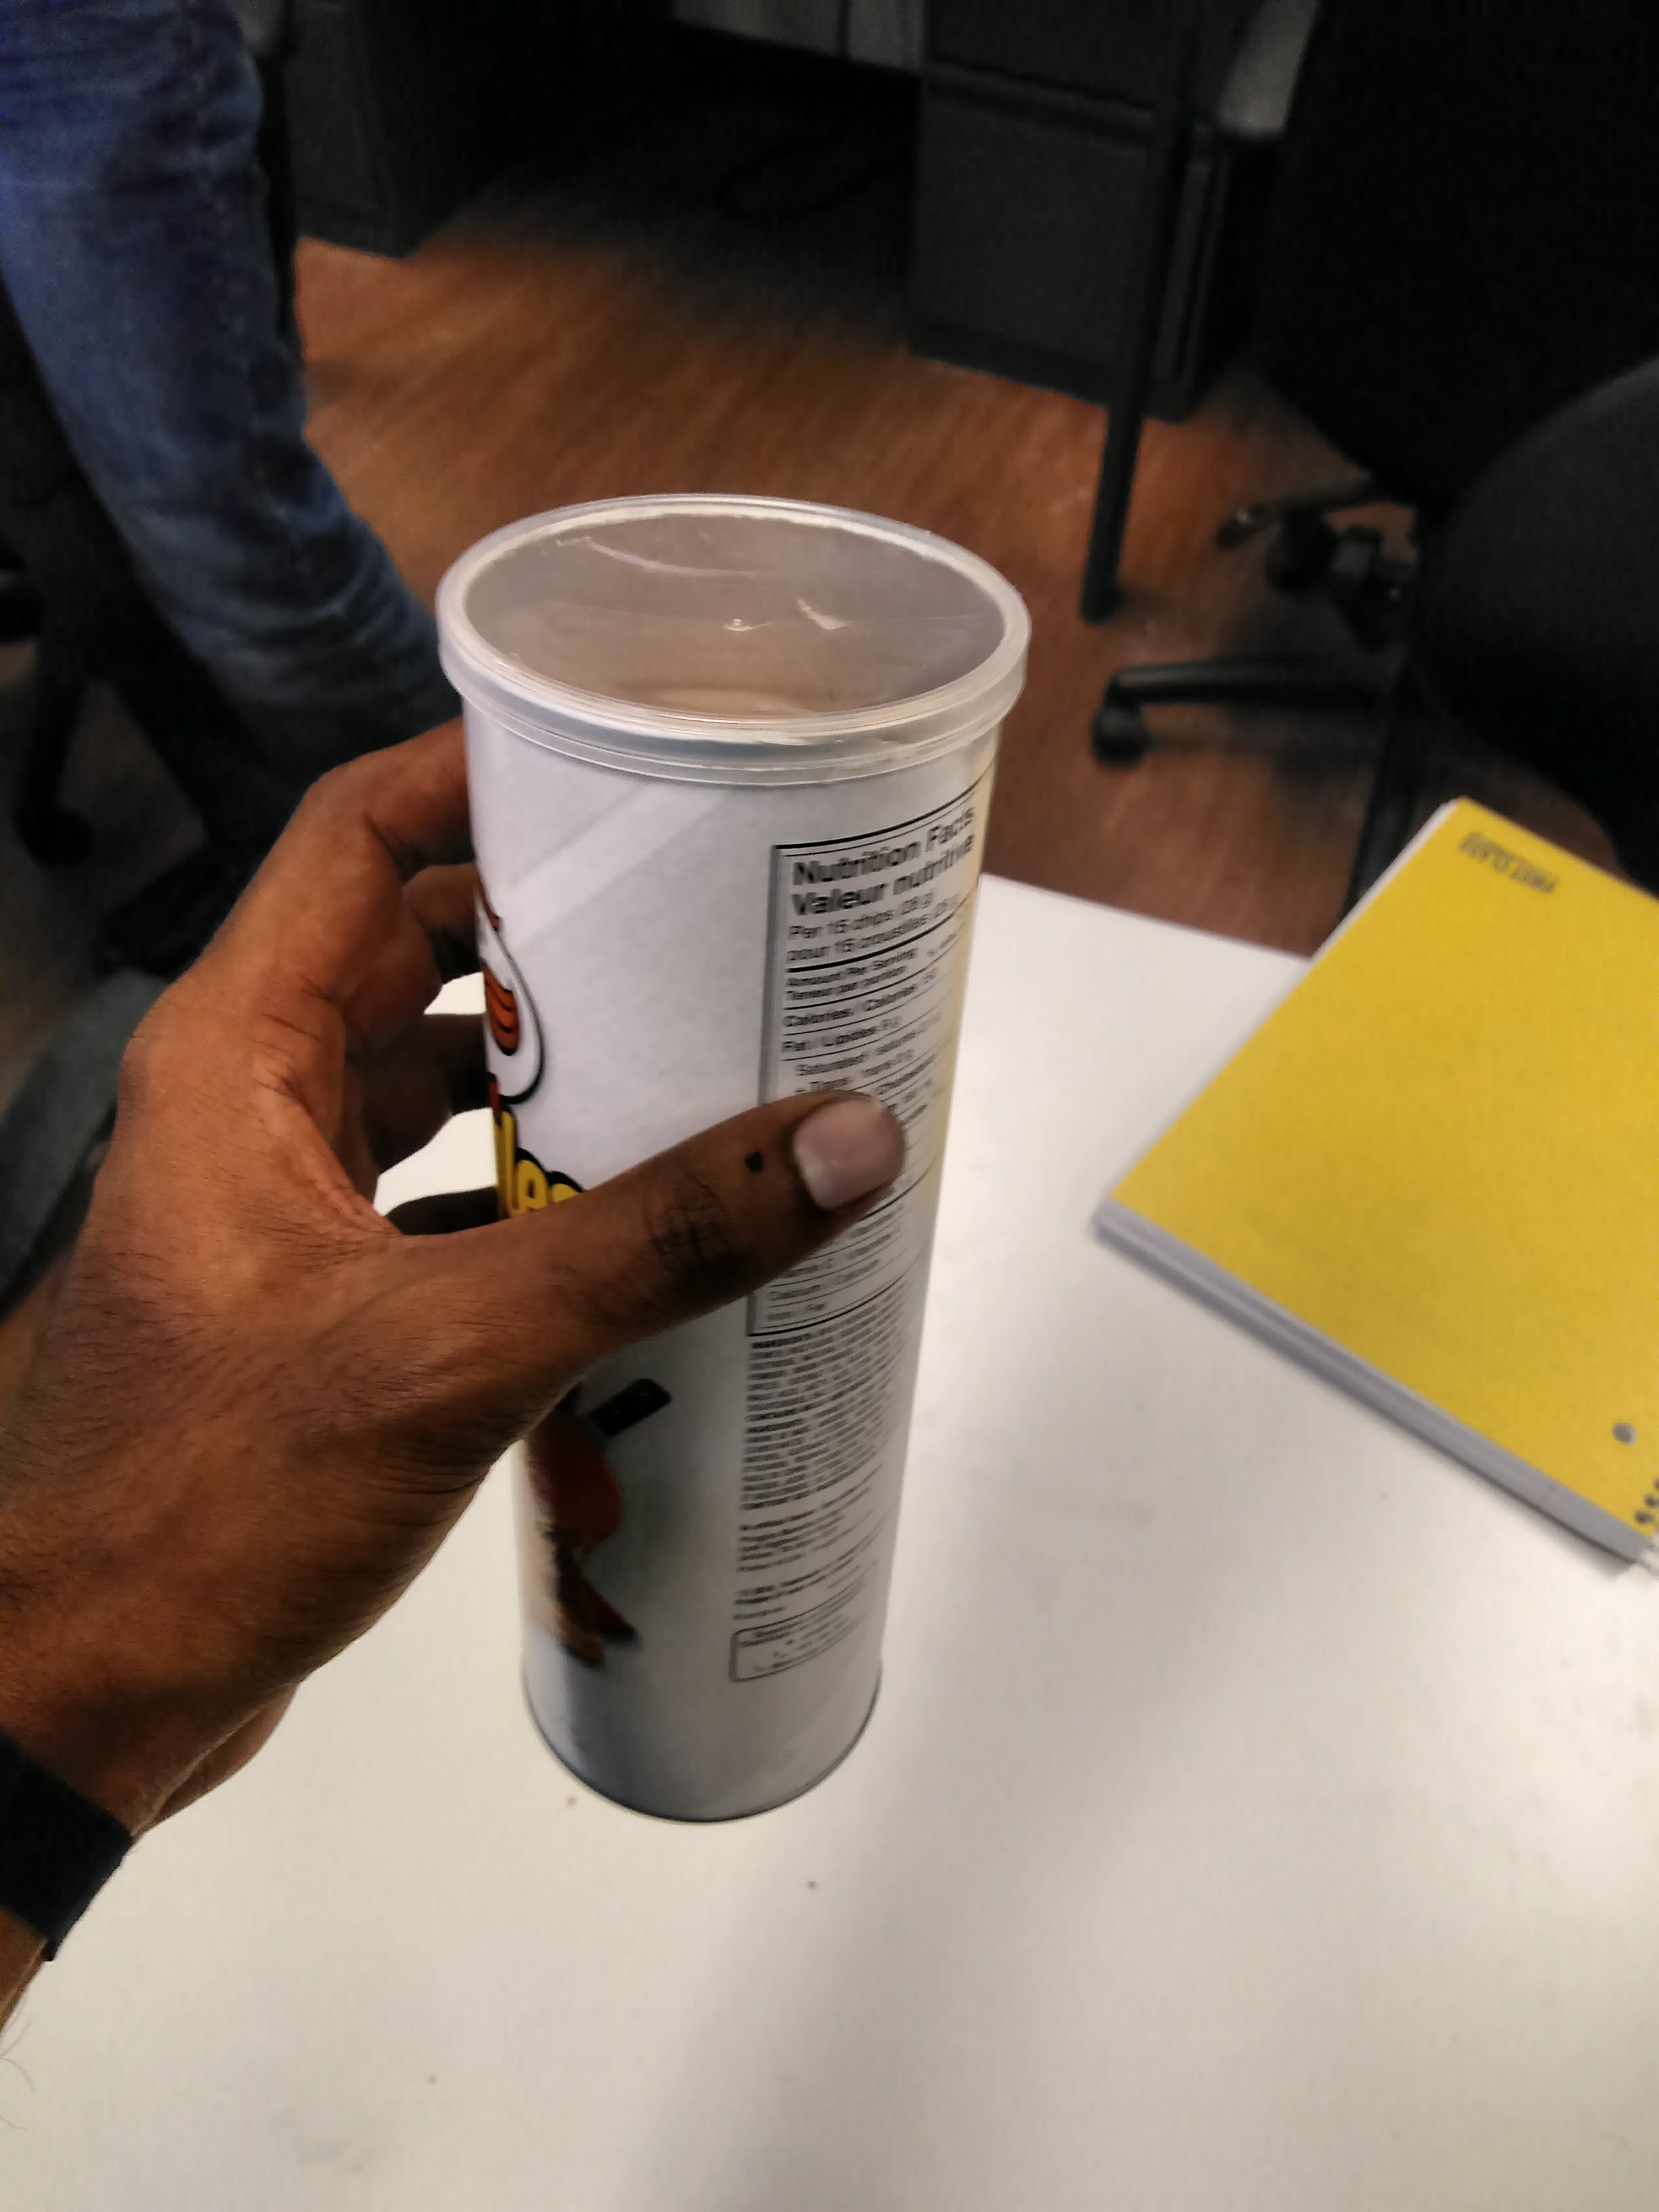pringles: (401, 500, 1033, 1818)
